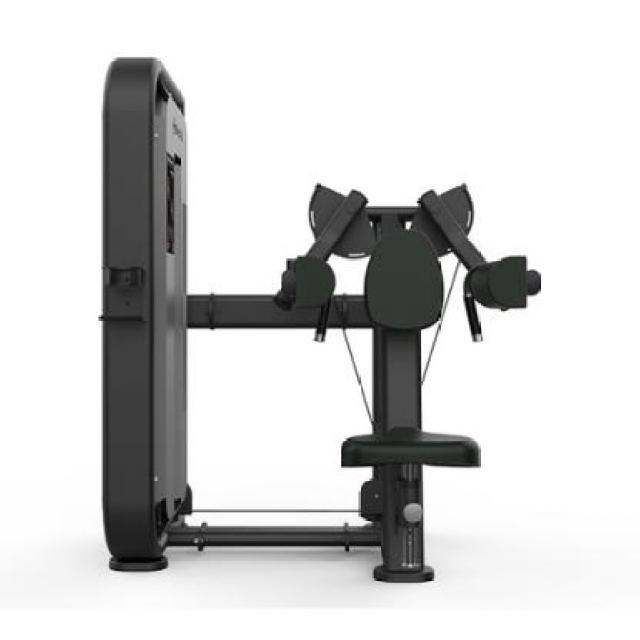lateral raises machine: (103, 57, 540, 586)
